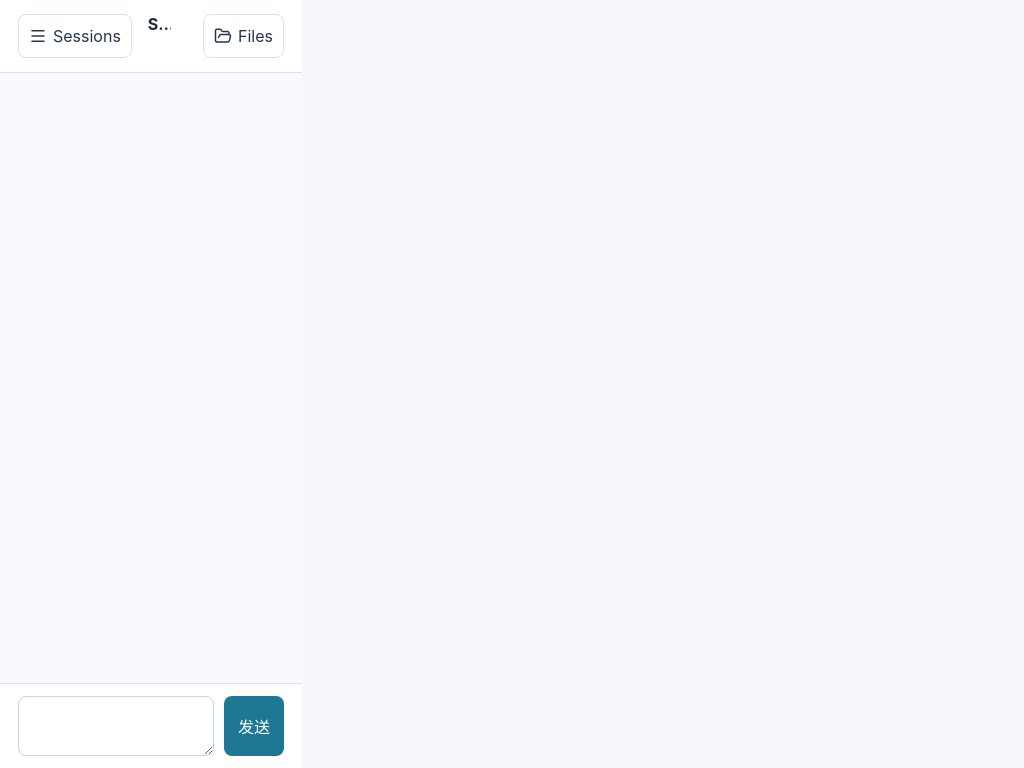
Test case: mobile: click + on daemon creates pending session in draft phase, drawer closes, composer enabled with empty messages, no detail fetch issued
Expected: the heading "Session A" is shown, x1=148 y1=14 x2=171 y2=34
Click the button "Sessions" at (75, 36), box x1=18 y1=14 x2=132 y2=58
(page scrolled)
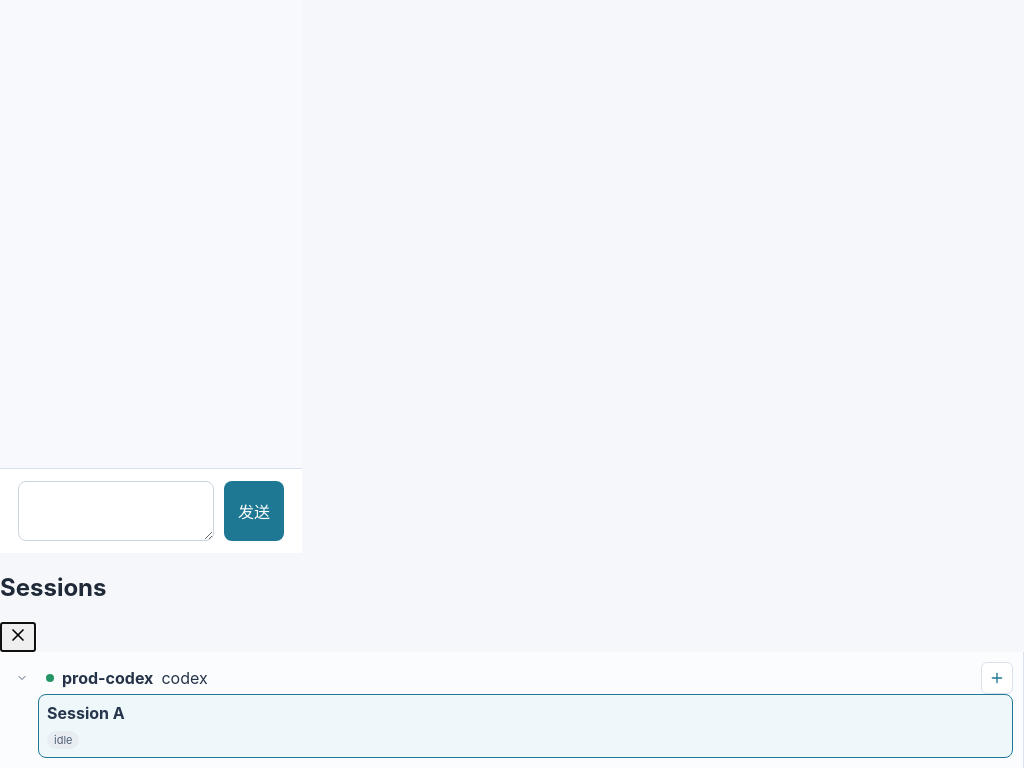
Click the button named "新建 session: prod-codex" at (997, 678), box x1=981 y1=662 x2=1013 y2=694
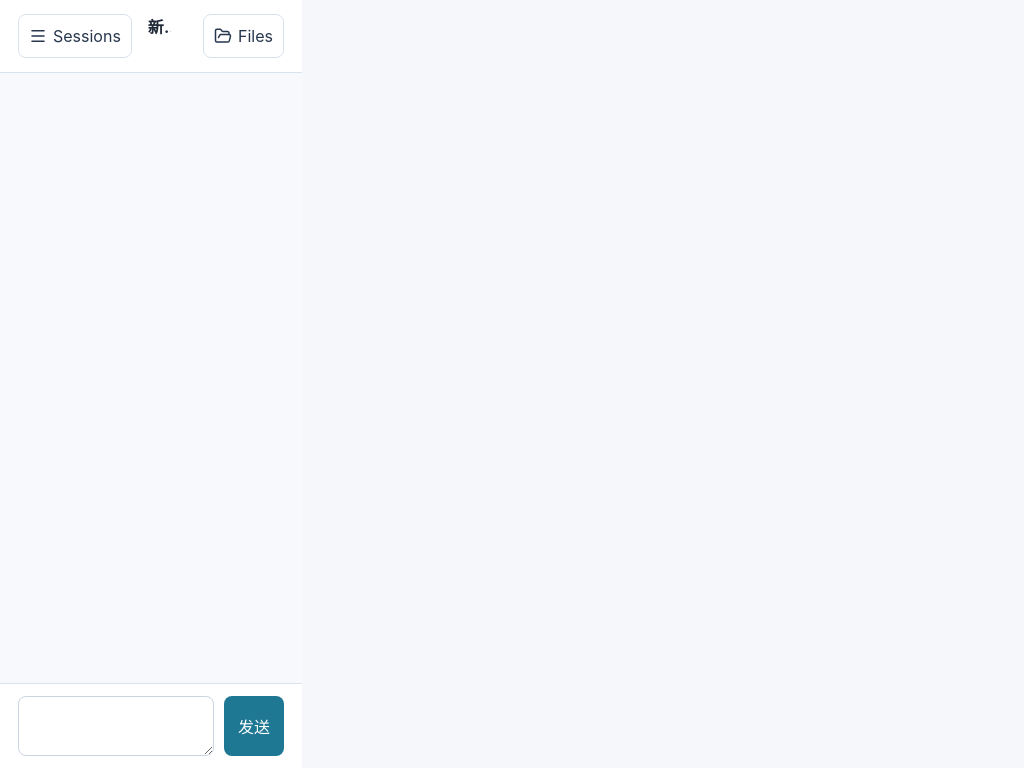
Expected: the text box named "输入提示词" is enabled, x1=18 y1=696 x2=214 y2=756
Expected: the dialog with test id "drawer-left" is gone
